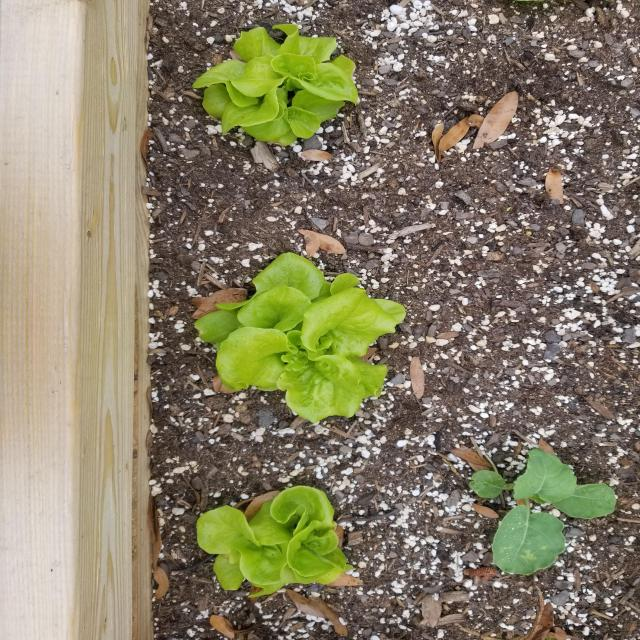inmadura: (195, 253, 405, 422), (193, 25, 358, 145), (196, 486, 353, 598)
